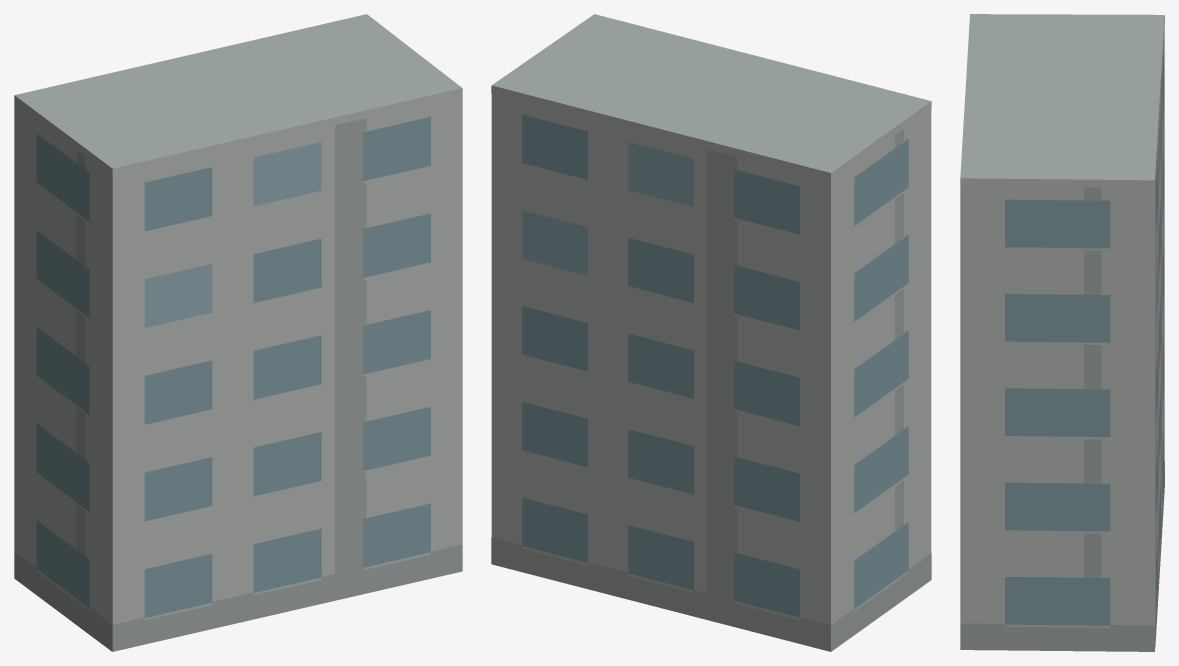
Rendered from survey-upis-32911891.glb.
3 views of the same model, side by side, from view 1: azimuth 30°, elevation 25°; view 2: azimuth 150°, elevation 25°; view 3: azimuth 270°, elevation 25° (orthographic). The views are drawn at different scales.
Visible parts, largest first — view 1: survey-upis-32911891.tmp; view 2: survey-upis-32911891.tmp; view 3: survey-upis-32911891.tmp.
Part boxes in pixels (left/top/right/bottom): survey-upis-32911891.tmp: left=14, top=14, right=462, bottom=651; survey-upis-32911891.tmp: left=491, top=14, right=931, bottom=651; survey-upis-32911891.tmp: left=960, top=14, right=1164, bottom=651.
Bounding box in the file's own units: 11.2 × 14.8 × 5.83.
